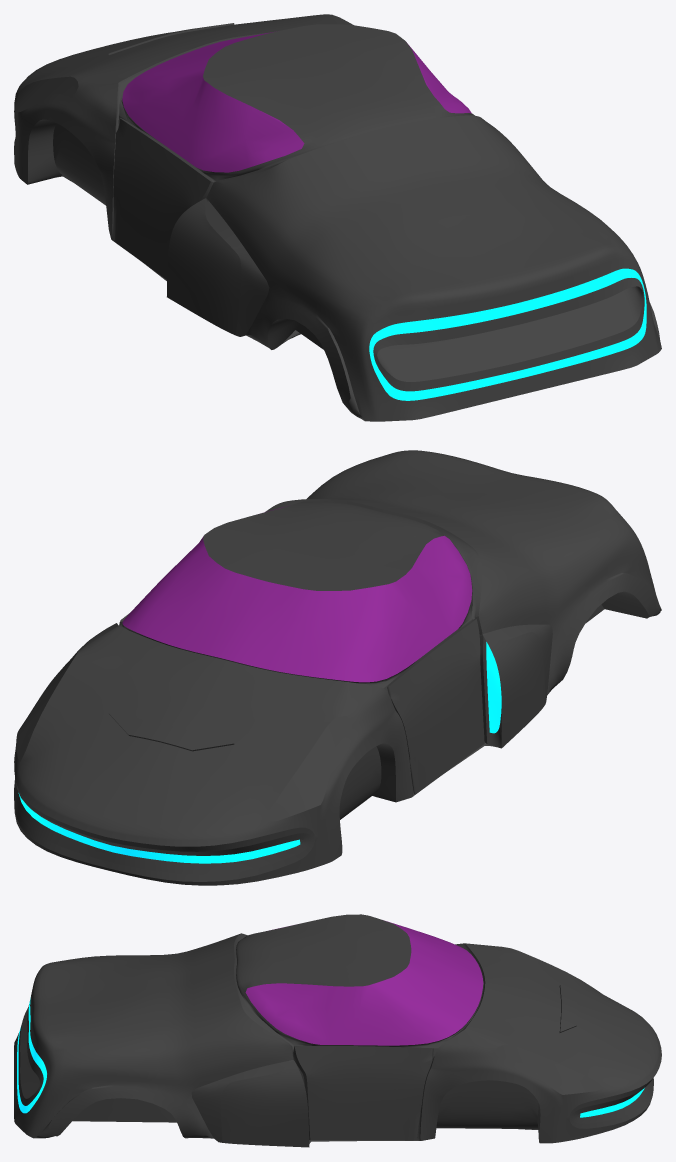
The model's file is car.FBX.
The picture shows the model from 3 angles, top to bottom: view 1: azimuth 30°, elevation 25°; view 2: azimuth 150°, elevation 25°; view 3: azimuth 270°, elevation 25°; orthographic projection. The views are drawn at different scales.
Parts seen in each view (by area): view 1: Box001; view 2: Box001; view 3: Box001.
Part boxes in pixels (<box>): Box001: <box>14,14,661,421</box>; Box001: <box>14,450,661,885</box>; Box001: <box>14,914,661,1147</box>.
Bounding box in the file's own units: 28.85 × 62.83 × 14.57.
